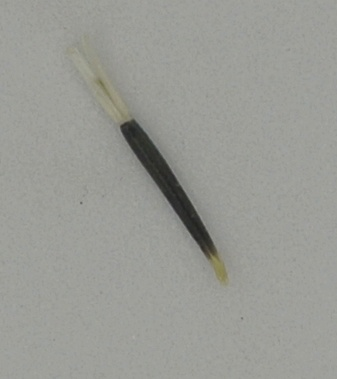เมล็ดดีเรียวยาว: (69, 37, 229, 286)
